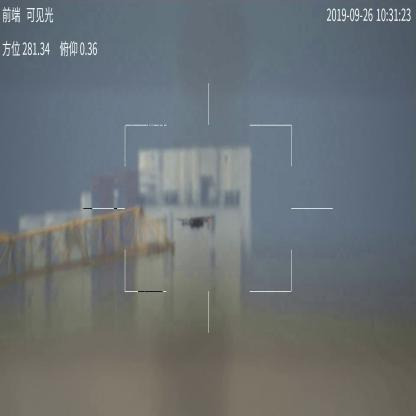uav: (176, 214, 214, 231)
